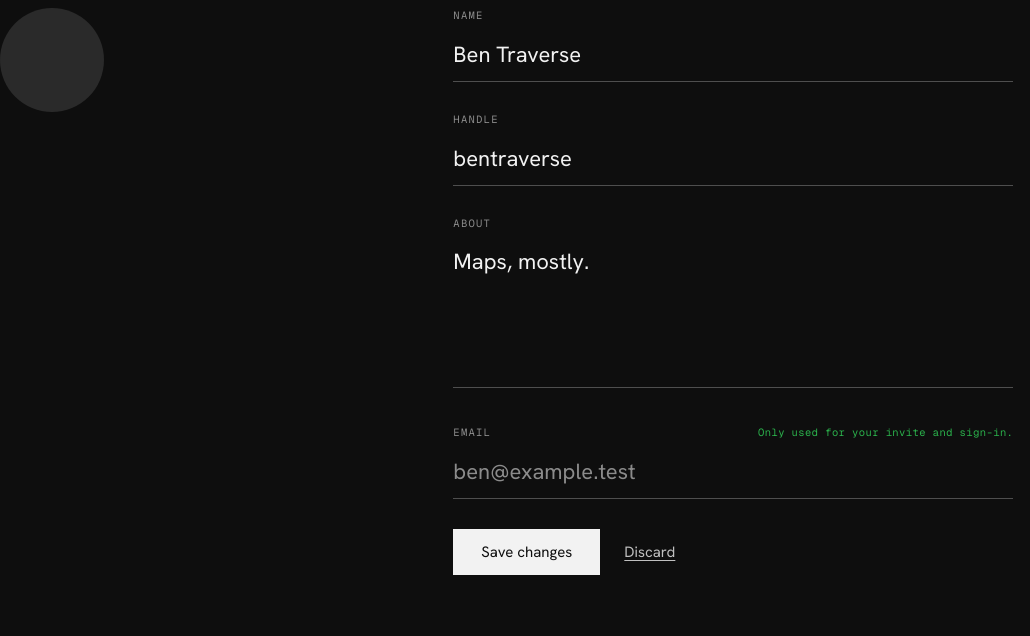
Test: ProfileEditScreen › sends any other failure to the centered slot, not the handle field
Click the button "Save changes": [527, 552] box [453,529,600,575]
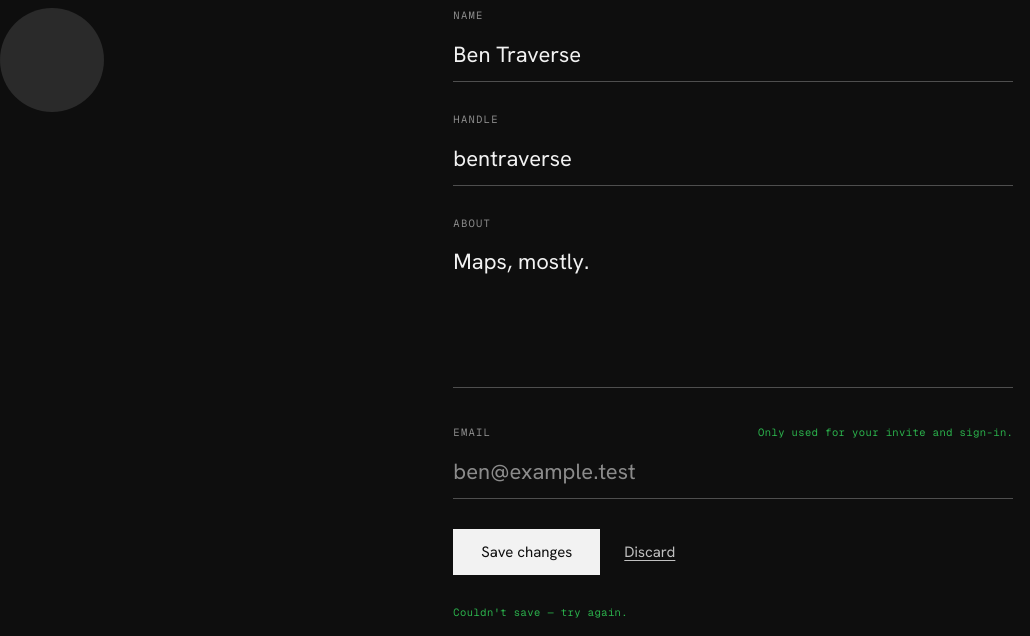
Expected: the message reads "Couldn't save — try again.", [453,605,628,619]
